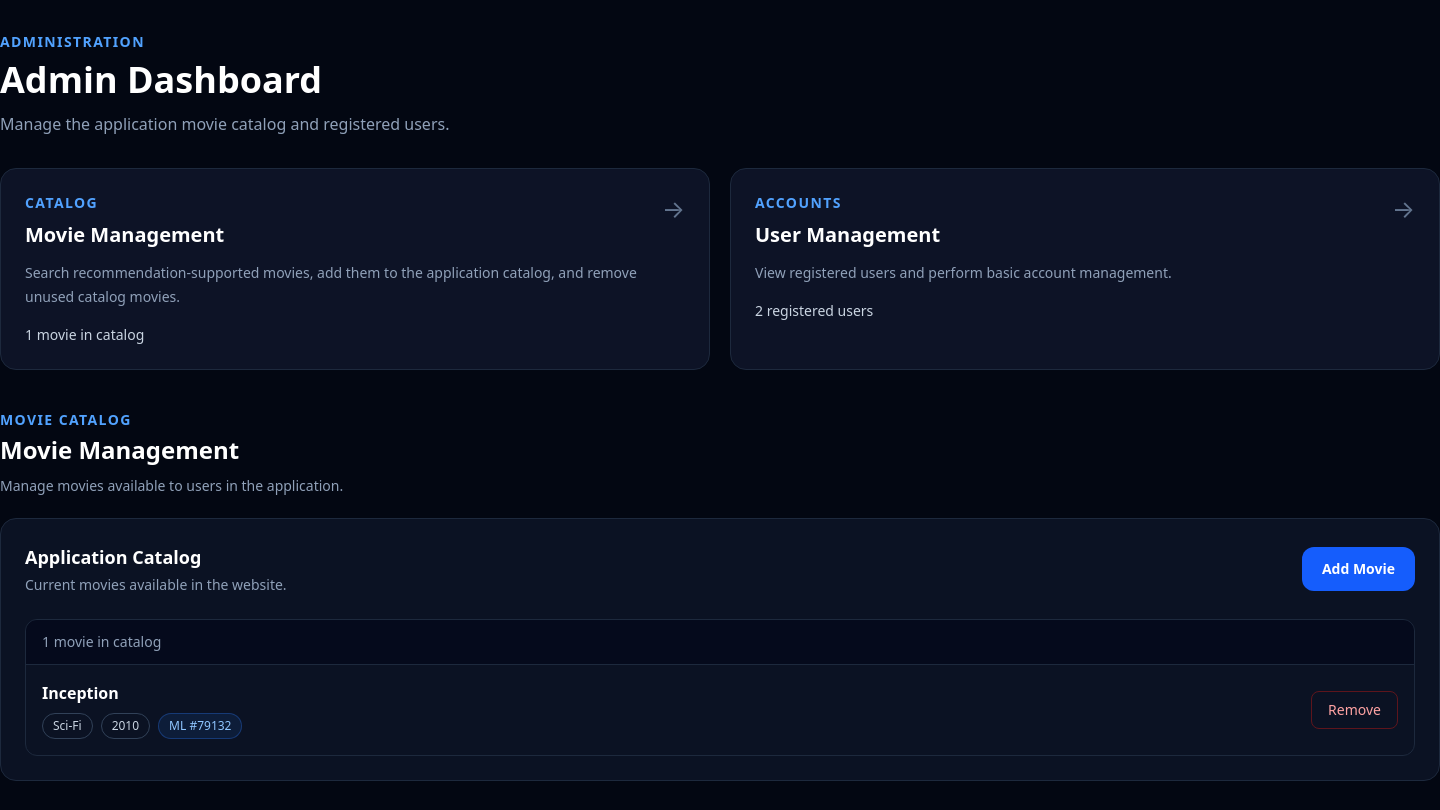
Test: AdminDashboard › shows validation error for an empty ML search
Expected: the link "Inception" is shown, [42,682,119,704]
Click the button "Add Movie" at (1358, 569), box [1302,547,1415,591]
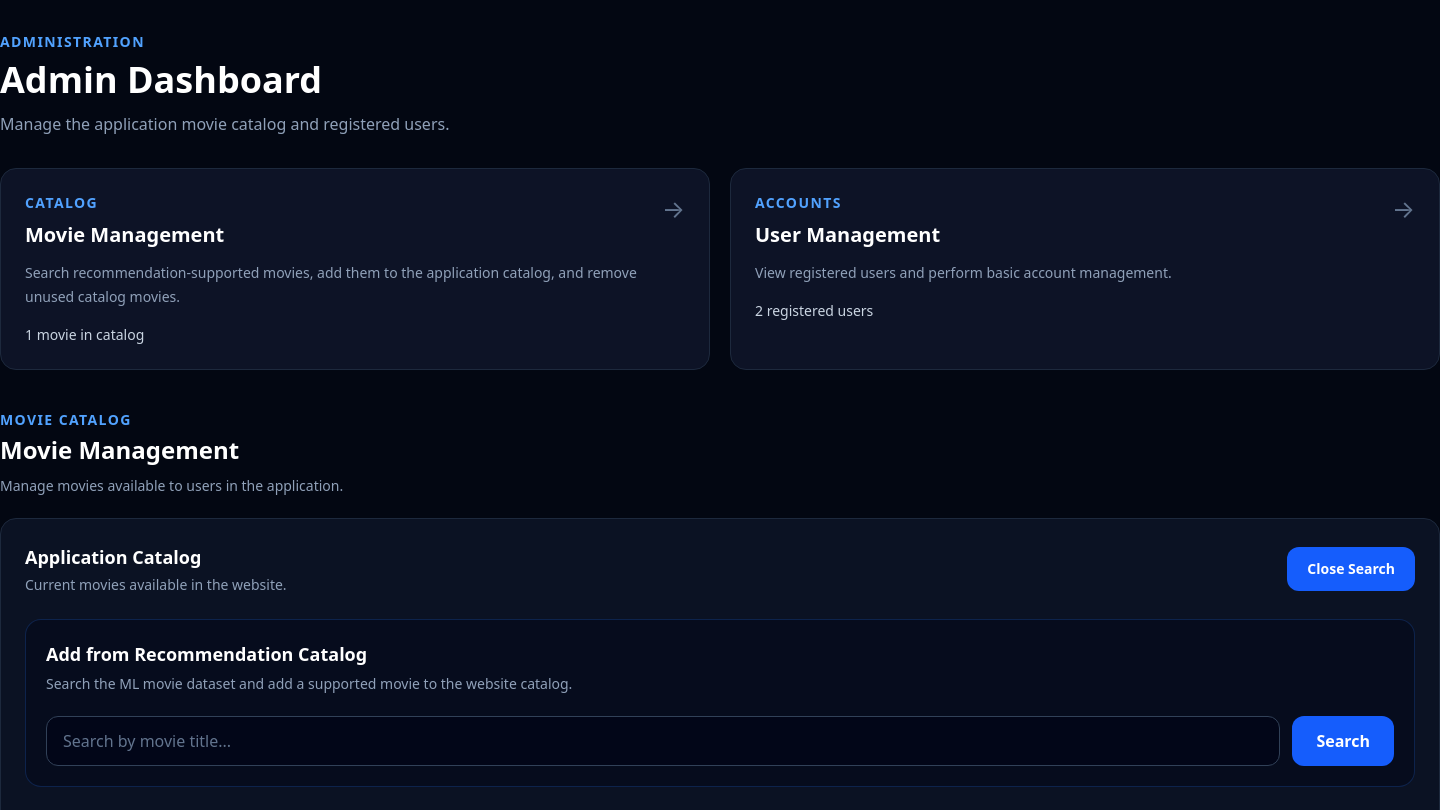
Click the button "Search" at (1343, 741), box [1292,716,1394,766]
(page scrolled)
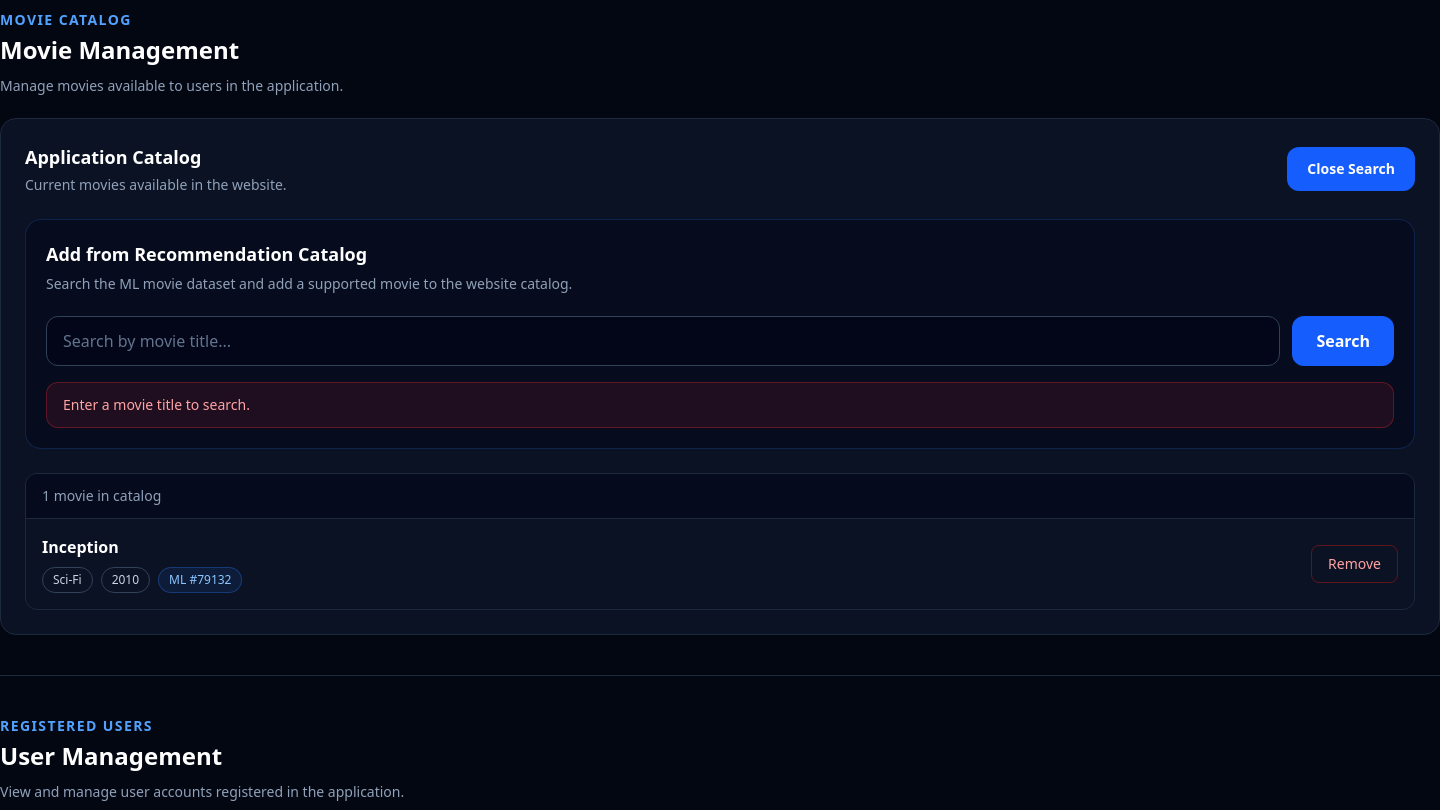
Result: the text "Enter a movie title to search." is shown at [63,395,250,414]
